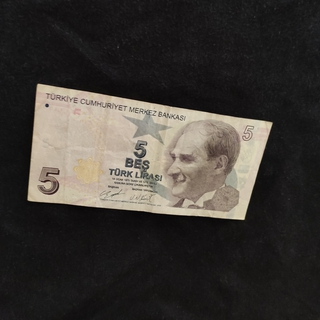5TLFront: (27, 83, 273, 220)
